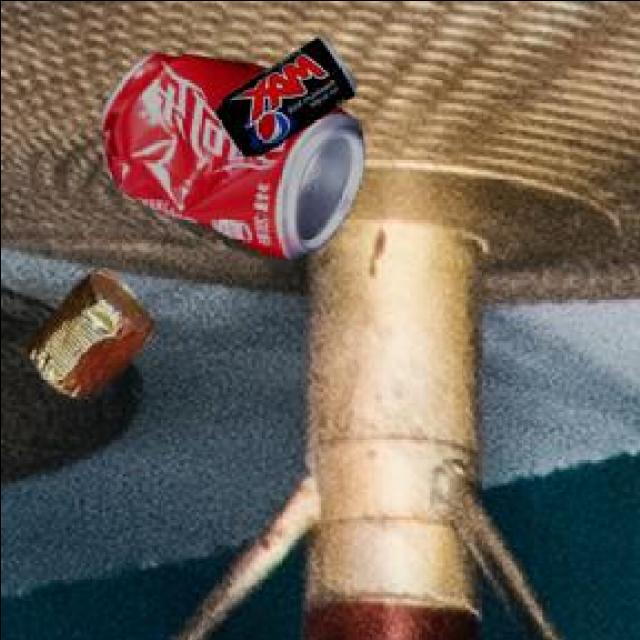logam: (97, 54, 361, 263), (210, 41, 350, 159), (26, 272, 148, 399)
